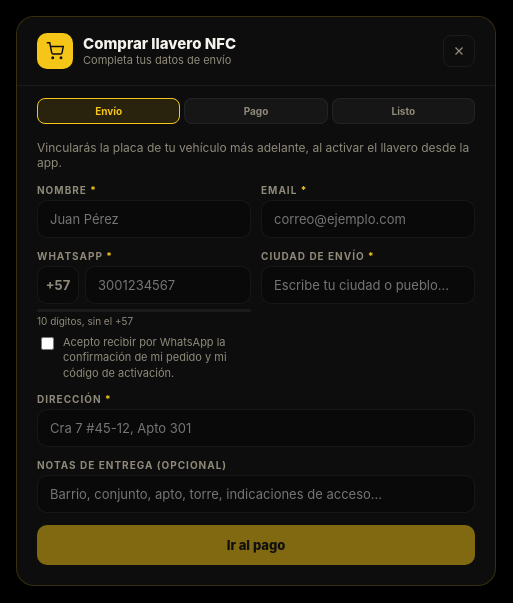
CartModal — paso de envío (validación de campos) › el celular solo acepta dígitos y máximo 10
The image size is (513, 603).
Type "30a01-23456789999" into the field with placeholder "3001234567". click: (168, 285)
box: [85, 266, 251, 304]
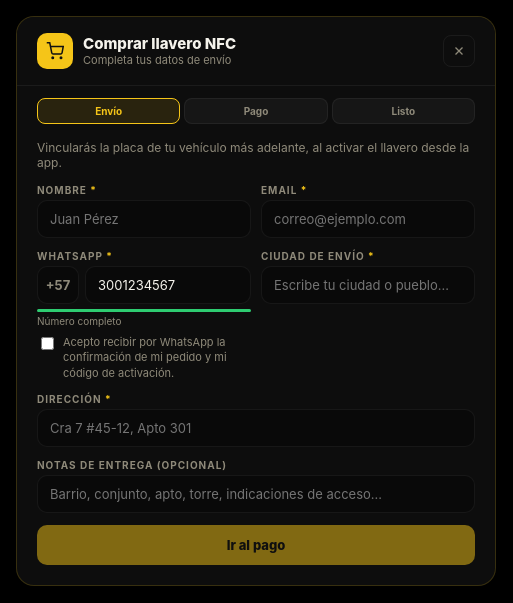
Expected: the field with placeholder "3001234567" holds "3001234567", [85, 266, 251, 304]
